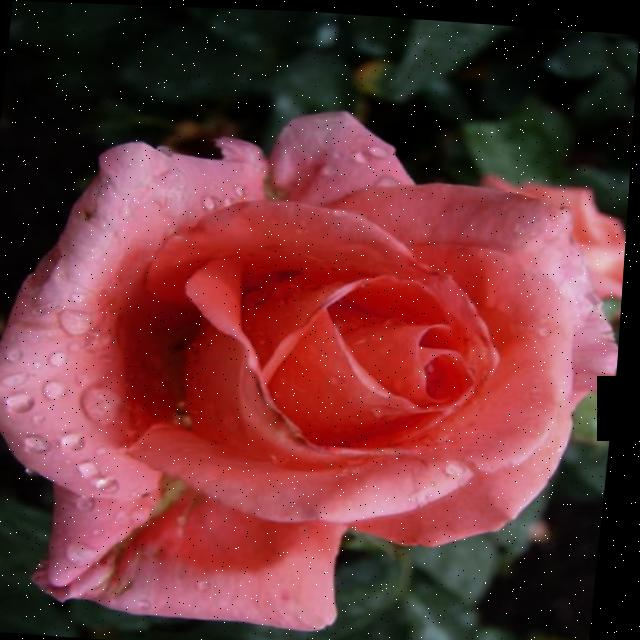rose: (0, 73, 636, 640)
